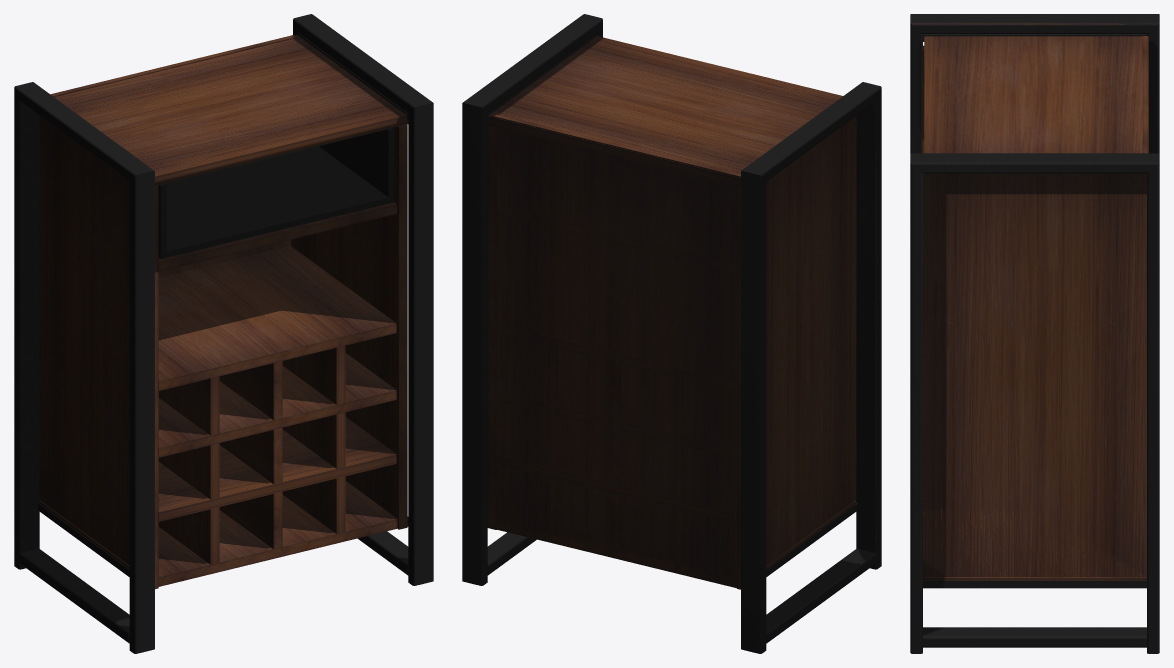
File: Vinoteca_3.fbx
The picture shows the model from 3 angles, left to right: view 1: azimuth 30°, elevation 25°; view 2: azimuth 150°, elevation 25°; view 3: azimuth 270°, elevation 25°; orthographic projection. The views are drawn at different scales.
Visible parts, largest first — view 1: Object003, Object002, Object001; view 2: Object002, Object003, Object001; view 3: Object003, Object002.
Boxes of the visible parts, box(x1,y1,x2,y2) form: Object003: box(39, 35, 408, 589); Object002: box(14, 14, 433, 653); Object001: box(158, 128, 408, 586); Object002: box(462, 14, 881, 653); Object003: box(487, 36, 856, 588); Object001: box(497, 205, 735, 573); Object003: box(923, 36, 1148, 580); Object002: box(910, 14, 1159, 653).
Size of the model in its own units: 22.44 by 34.25 by 15.75.
Materials: 3 (3 with a texture image).
